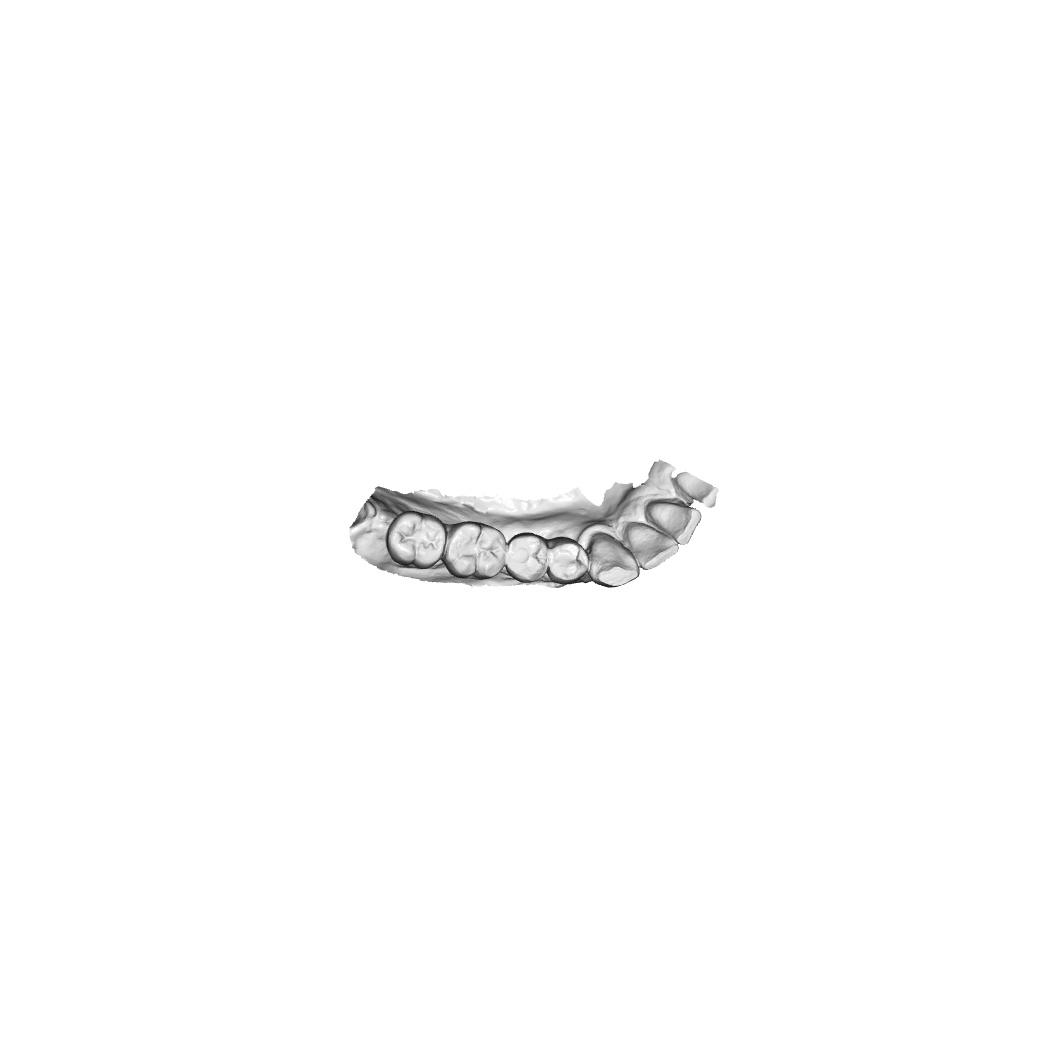canine: (586, 531, 640, 590)
incisor: (624, 519, 680, 571), (645, 498, 703, 547)
molar: (441, 520, 507, 580), (385, 510, 447, 570)
premolar: (506, 531, 549, 583), (546, 536, 589, 586)
